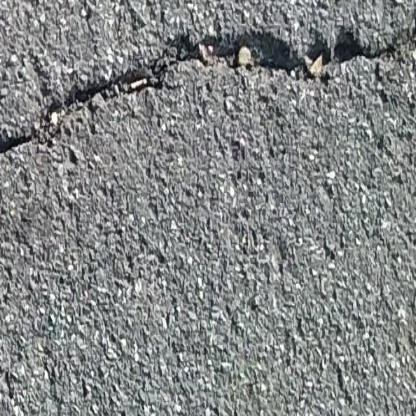Cracks: (40, 10, 416, 124), (0, 112, 38, 160)
